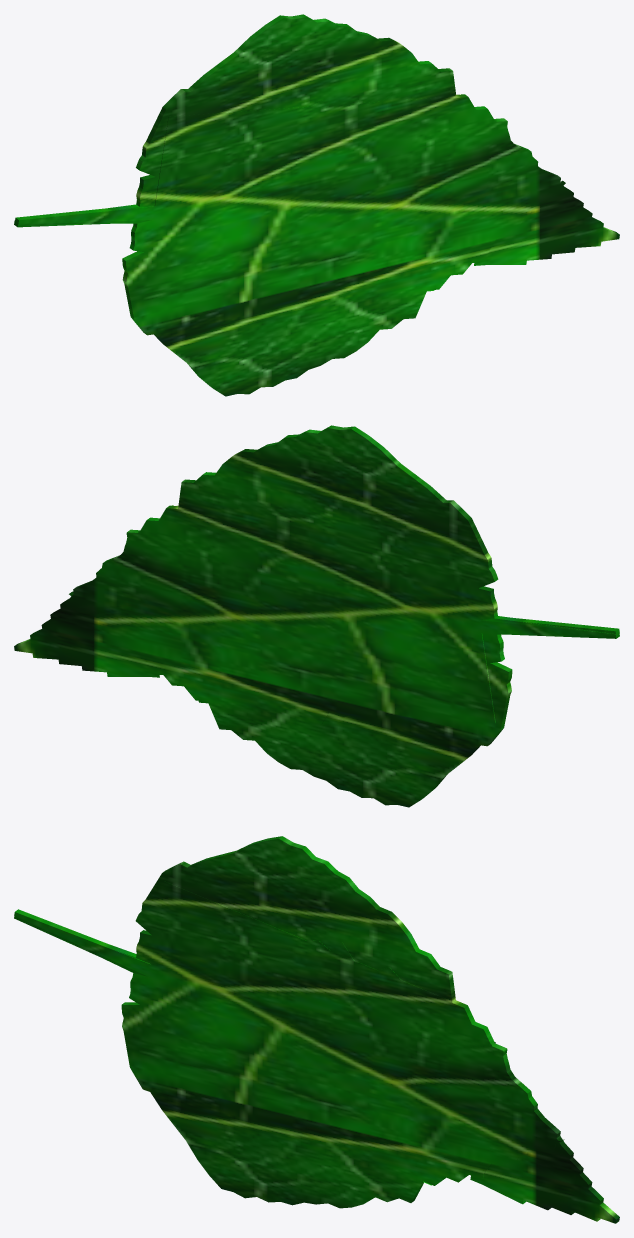
File: Foglia_fbx.fbx
3 renders of one model, top to bottom at view 1: azimuth 30°, elevation 25°; view 2: azimuth 150°, elevation 25°; view 3: azimuth 330°, elevation 25°, orthographic.
Parts seen in each view (by area): view 1: Cube; view 2: Cube; view 3: Cube.
Boxes of the visible parts, x1,y1,x2,y2 form: Cube: [14, 14, 619, 396]; Cube: [14, 425, 619, 807]; Cube: [14, 836, 619, 1223].
Bounding box in the file's own units: 15.22 × 8.88 × 0.1858.
Materials: 1 (1 with a texture image).
